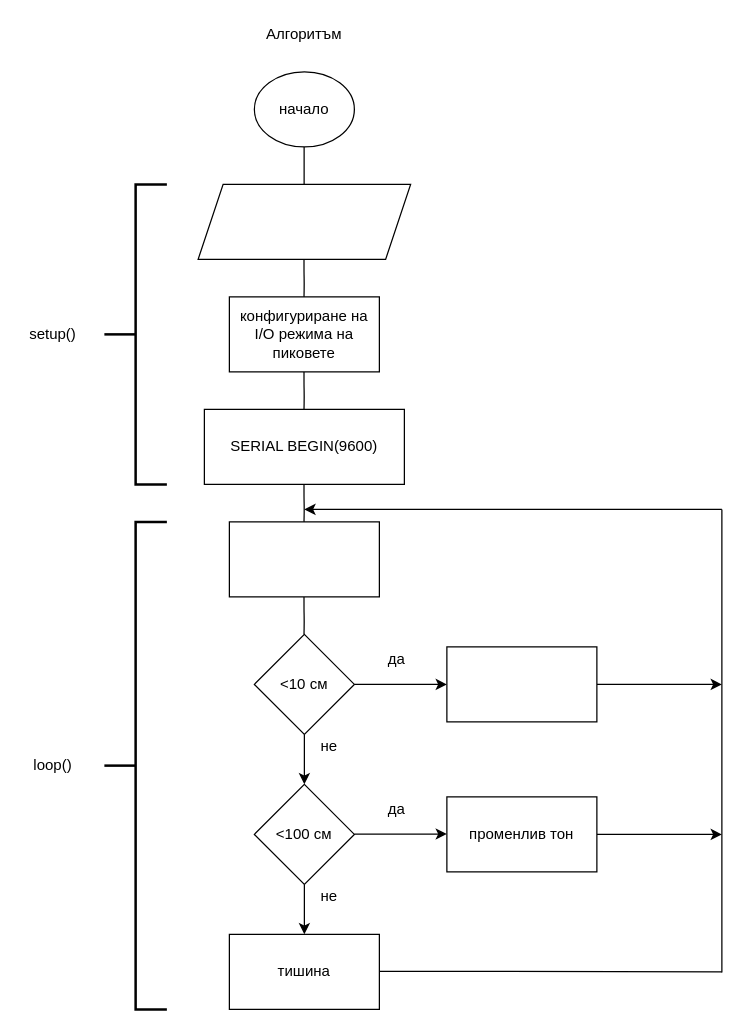
The diagram is 754 pixels wide and 1031 high, and some of its shapes have lost their labels. The shapes that lost their labels are listed below. From the top down, each one's box as (x1, y1, x2, y2) in pixels, then its label:
(197, 183, 411, 259): инициализация на променливите
(228, 521, 379, 597): измерване на разстоянието
(446, 646, 597, 722): непрекъснат тон
